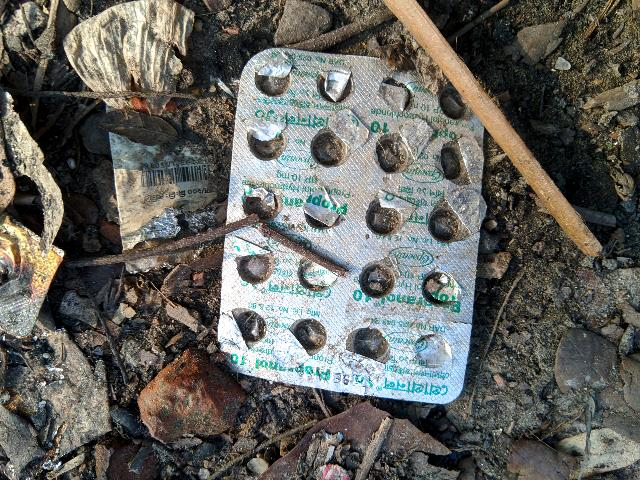medicine: (198, 62, 519, 403)
